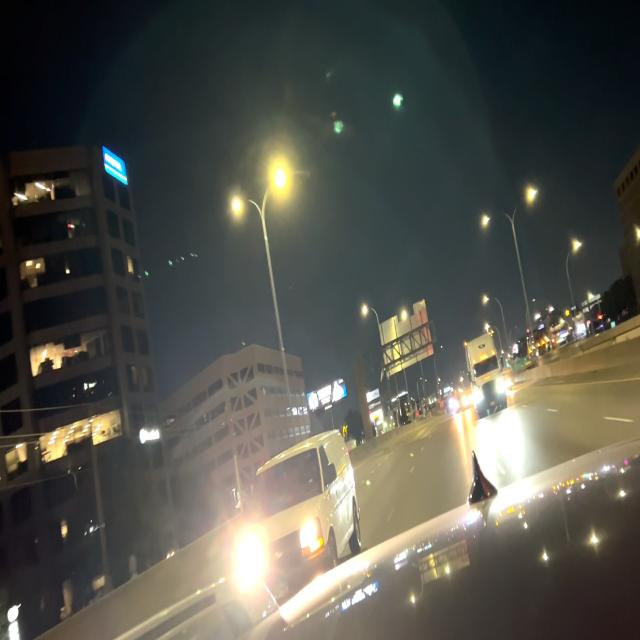back-of-sign: (379, 296, 434, 377)
